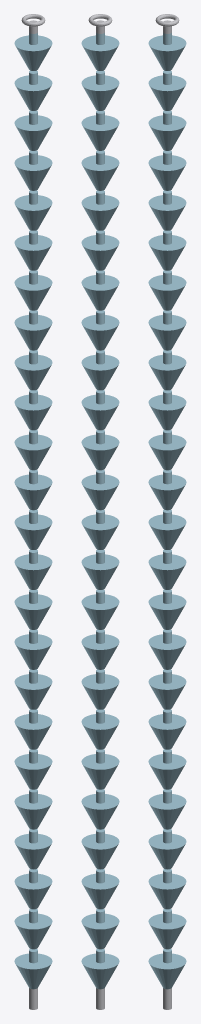
Rendered from Cadena_2863mm.fbx.
The picture shows the model from 3 angles, left to right: view 1: azimuth 90°, elevation 25°; view 2: azimuth 150°, elevation 25°; view 3: azimuth 270°, elevation 25°; orthographic projection.
Parts seen in each view (by area): view 1: Cadena_2863mm; view 2: Cadena_2863mm; view 3: Cadena_2863mm.
Part boxes in pixels (x1,y1,x2,y2): Cadena_2863mm: (14,14,52,1009); Cadena_2863mm: (81,14,119,1009); Cadena_2863mm: (148,14,186,1009).
Bounding box in the file's own units: 10 × 286 × 10.
